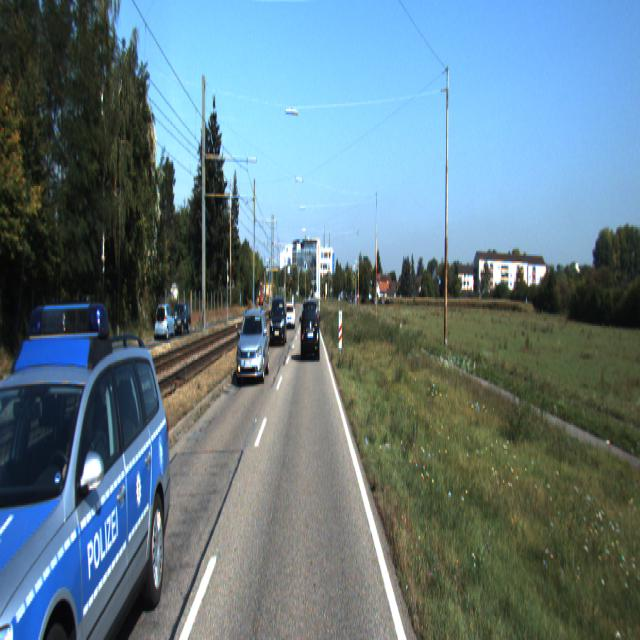Car: (0, 300, 184, 639), (237, 304, 271, 382), (64, 308, 104, 371), (301, 298, 321, 361), (271, 296, 288, 346), (155, 301, 176, 341), (171, 300, 192, 337), (285, 302, 296, 329)
